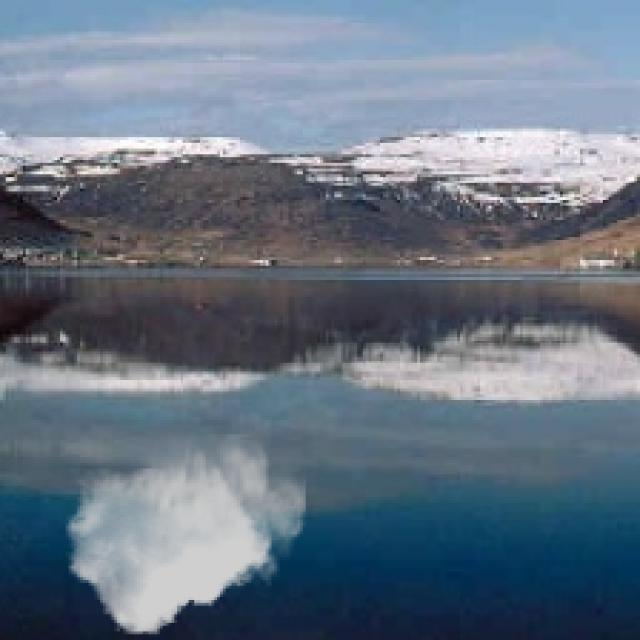smoke: (66, 434, 306, 634)
